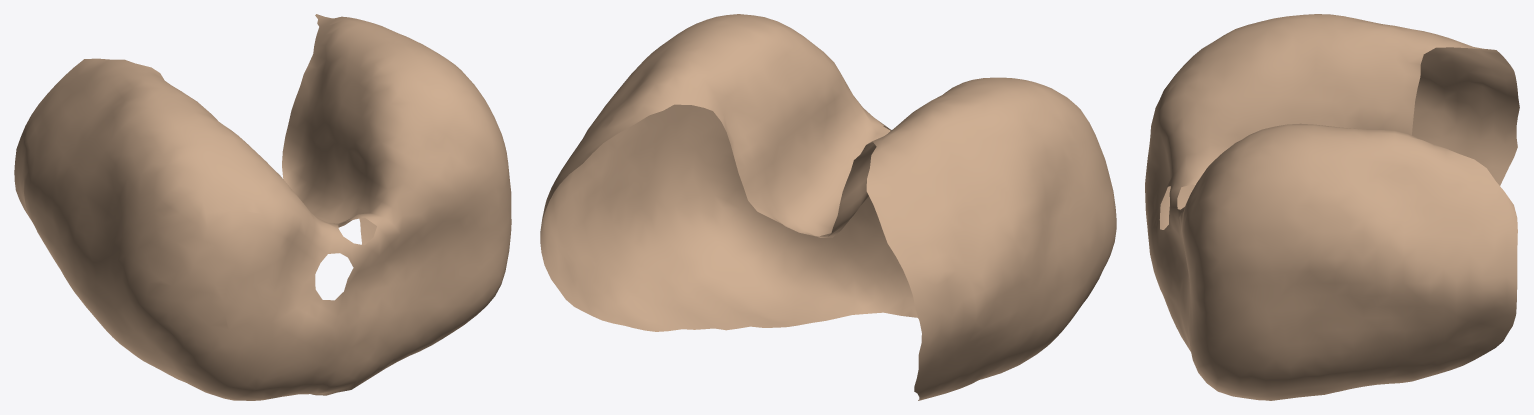
The picture shows the model from 3 angles, left to right: view 1: azimuth 30°, elevation 25°; view 2: azimuth 150°, elevation 25°; view 3: azimuth 270°, elevation 25°; orthographic projection. The views are drawn at different scales.
Visible parts, largest first — view 1: 膈筋膜; view 2: 膈筋膜; view 3: 膈筋膜.
Part boxes in pixels (left/top/right/bottom): 膈筋膜: left=14, top=14, right=511, bottom=400; 膈筋膜: left=540, top=14, right=1116, bottom=400; 膈筋膜: left=1145, top=14, right=1519, bottom=400.
Size of the model in its own units: 0.3472 by 0.2348 by 0.2856.
